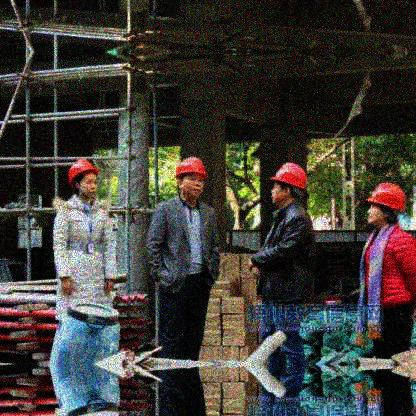helmet: (366, 182, 408, 227), (270, 163, 309, 207), (175, 155, 208, 197), (68, 158, 99, 198)
